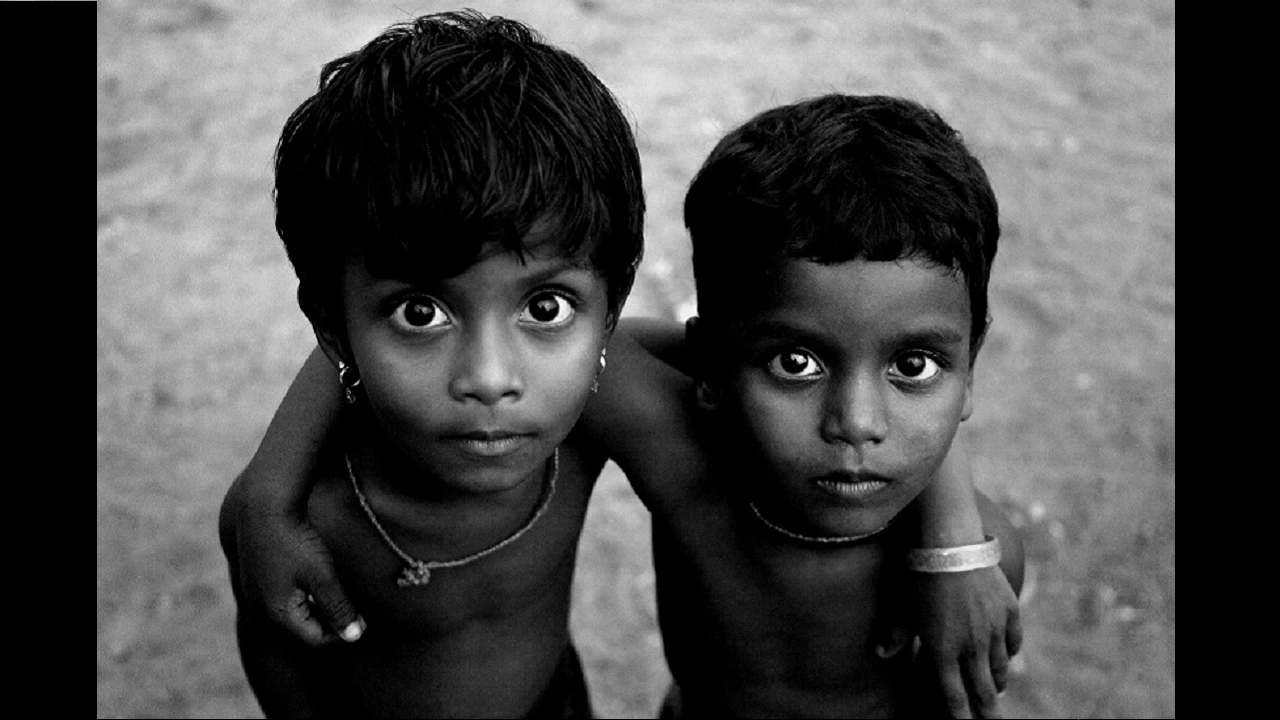human: (218, 12, 646, 720), (648, 74, 1052, 720)
